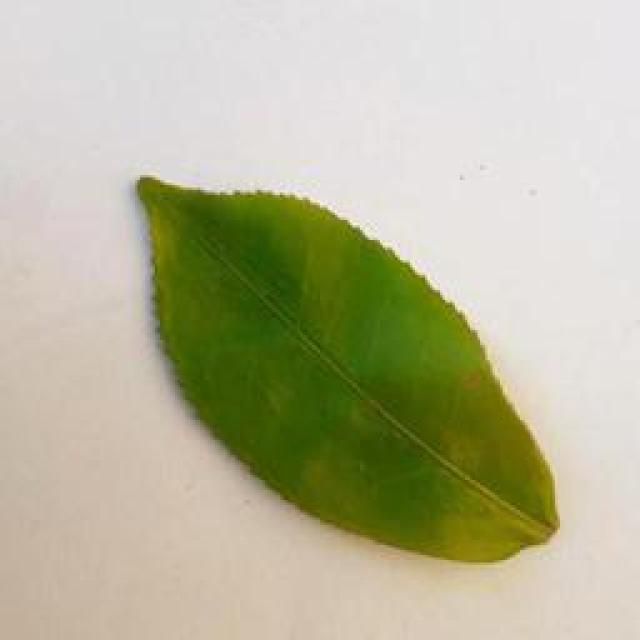Healthy: (114, 162, 568, 567)
